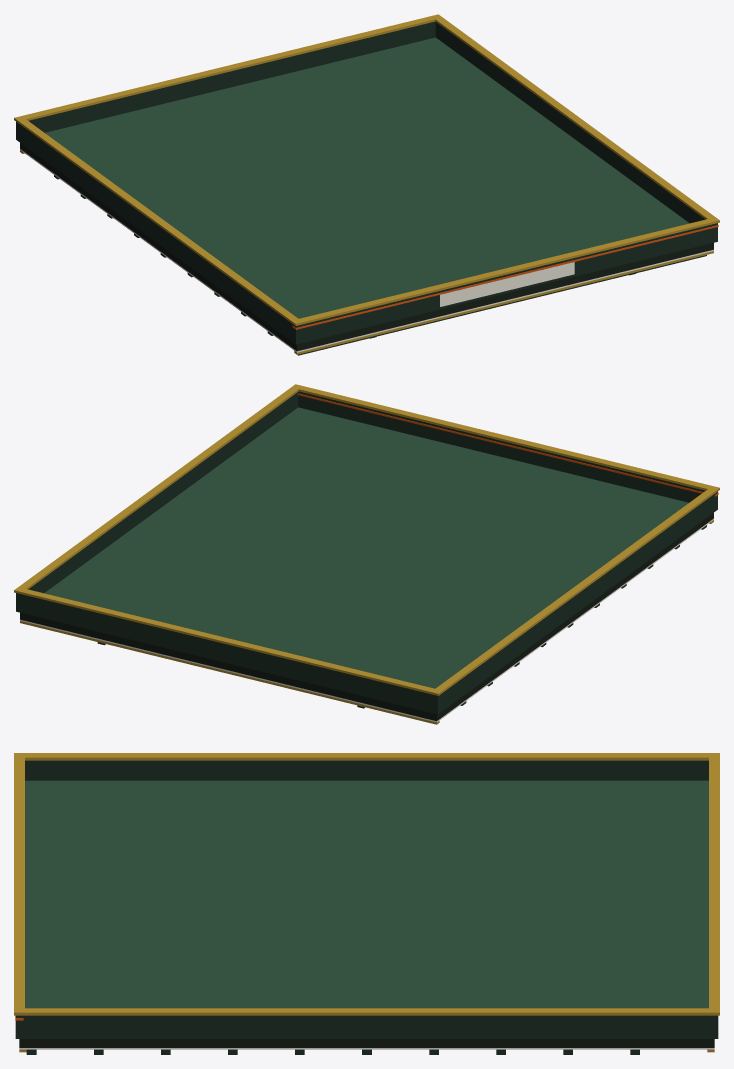
Rendered from roof.glb.
3 views of the same model, one above another, from view 1: azimuth 30°, elevation 25°; view 2: azimuth 150°, elevation 25°; view 3: azimuth 270°, elevation 25° (orthographic). The views are drawn at different scales.
Parts seen in each view (by area): view 1: roof_deck, parapet_back, parapet_front, parapet_left, slab, parapet_right, parapet_cap_front, parapet_cap_back, parapet_cap_left, parapet_cap_right, parapet_sign_slot, ceiling_plane (+3 smaller); view 2: roof_deck, parapet_back, parapet_front, parapet_left, slab, parapet_right, parapet_cap_back, parapet_cap_front, parapet_cap_right, parapet_cap_left, ceiling_plane, cove_back (+1 smaller); view 3: roof_deck, parapet_right, parapet_left, slab, parapet_cap_right, parapet_cap_left, parapet_cap_front, parapet_cap_back, ceiling_plane.
Part boxes in pixels (x1=…): roof_deck: x1=45, y1=37, x2=689, y2=318; parapet_back: x1=16, y1=21, x2=435, y2=141; parapet_front: x1=293, y1=223, x2=717, y2=344; parapet_left: x1=19, y1=124, x2=300, y2=344; slab: x1=20, y1=143, x2=713, y2=351; parapet_right: x1=435, y1=22, x2=705, y2=223; parapet_cap_front: x1=291, y1=217, x2=719, y2=325; parapet_cap_back: x1=14, y1=14, x2=442, y2=122; parapet_cap_left: x1=14, y1=117, x2=302, y2=325; parapet_cap_right: x1=431, y1=15, x2=719, y2=222; parapet_sign_slot: x1=440, y1=262, x2=574, y2=306; ceiling_plane: x1=20, y1=149, x2=713, y2=352; roof_deck: x1=44, y1=407, x2=688, y2=688; parapet_back: x1=18, y1=594, x2=440, y2=714; parapet_front: x1=298, y1=391, x2=717, y2=511; parapet_left: x1=433, y1=494, x2=714, y2=713; slab: x1=20, y1=513, x2=713, y2=721; parapet_right: x1=16, y1=392, x2=298, y2=612; parapet_cap_back: x1=14, y1=587, x2=442, y2=695; parapet_cap_front: x1=291, y1=384, x2=719, y2=492; parapet_cap_right: x1=14, y1=384, x2=302, y2=594; parapet_cap_left: x1=431, y1=487, x2=718, y2=695; ceiling_plane: x1=20, y1=518, x2=713, y2=722; cove_back: x1=20, y1=621, x2=439, y2=724; roof_deck: x1=25, y1=780, x2=708, y2=1008; parapet_right: x1=16, y1=1015, x2=718, y2=1038; parapet_left: x1=25, y1=760, x2=708, y2=780; slab: x1=19, y1=1039, x2=714, y2=1047; parapet_cap_right: x1=14, y1=1008, x2=719, y2=1015; parapet_cap_left: x1=15, y1=753, x2=719, y2=760; parapet_cap_front: x1=14, y1=753, x2=24, y2=1015; parapet_cap_back: x1=709, y1=753, x2=719, y2=1015; ceiling_plane: x1=19, y1=1048, x2=714, y2=1049.
Bounding box in the file's own units: 10.08 × 0.85 × 11.58.
